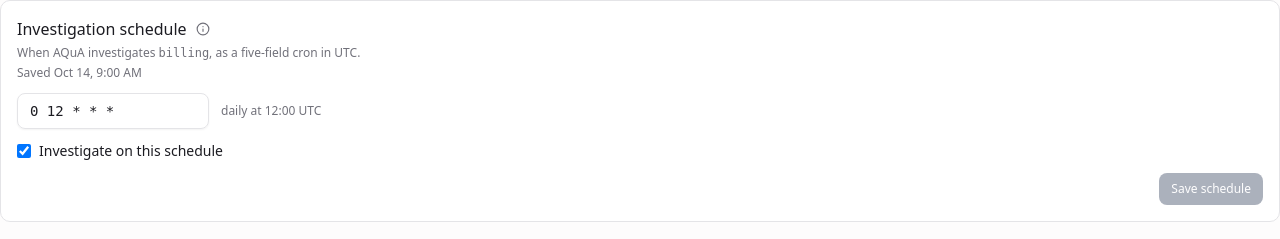
Test case: ScheduleCard › saves only the cron when only the cron changed
Type " 30 6 * * 1-5 " into the field showing "0 12 * * *". click: (113, 111)
box: left=17, top=93, right=209, bottom=129
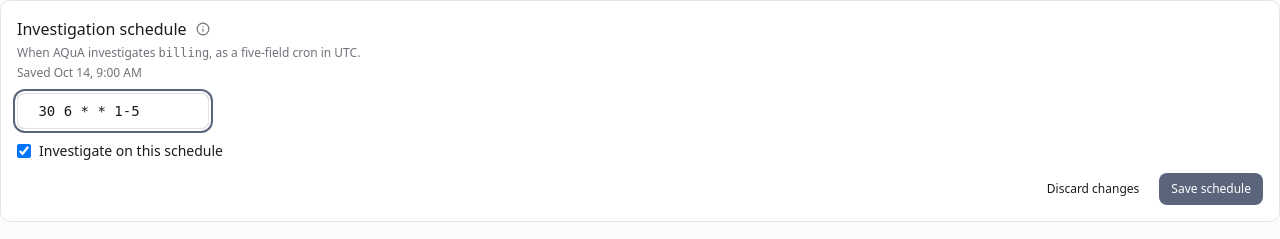
Click the button "Save schedule". click: click(1211, 189)
box: left=1159, top=173, right=1263, bottom=205
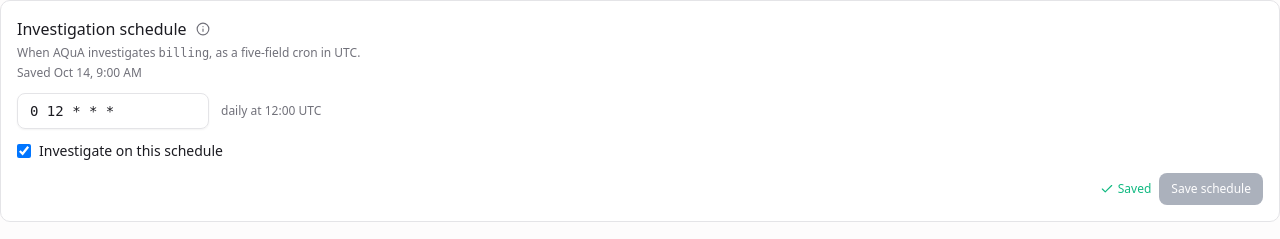
Check: the text "Saved" is shown, box left=1100, top=181, right=1151, bottom=197
